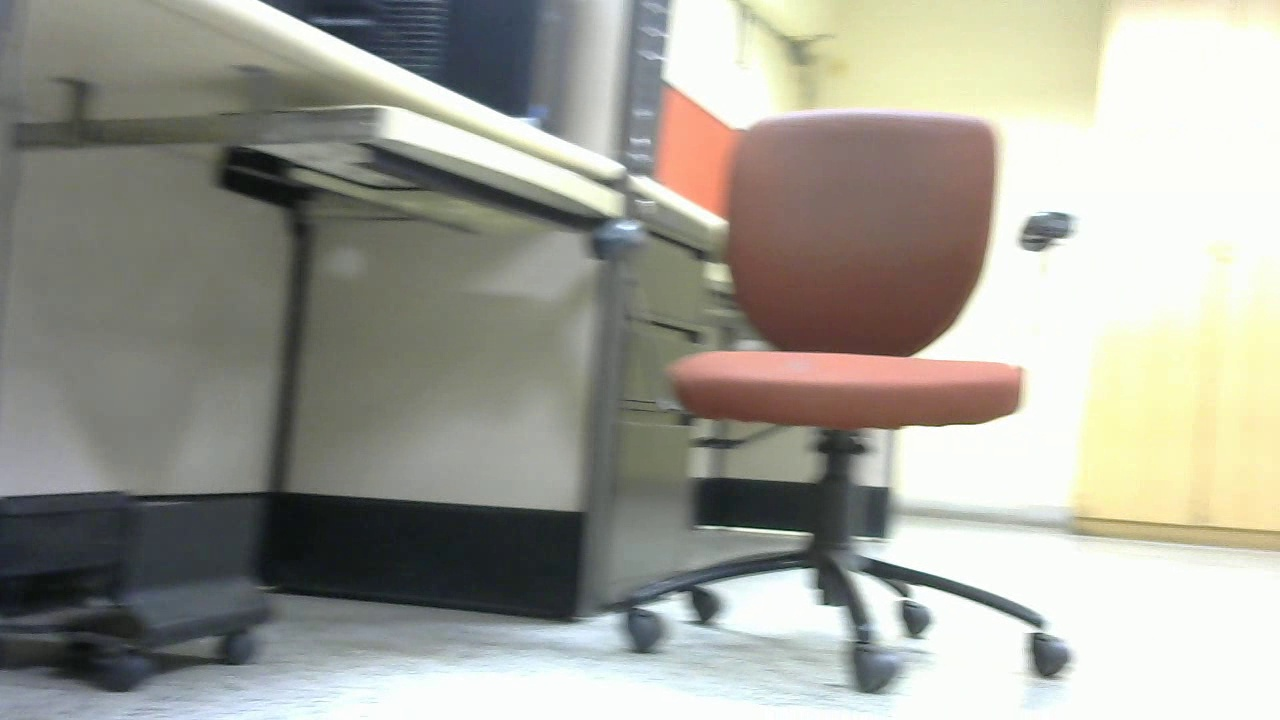chair: (554, 105, 1073, 696)
